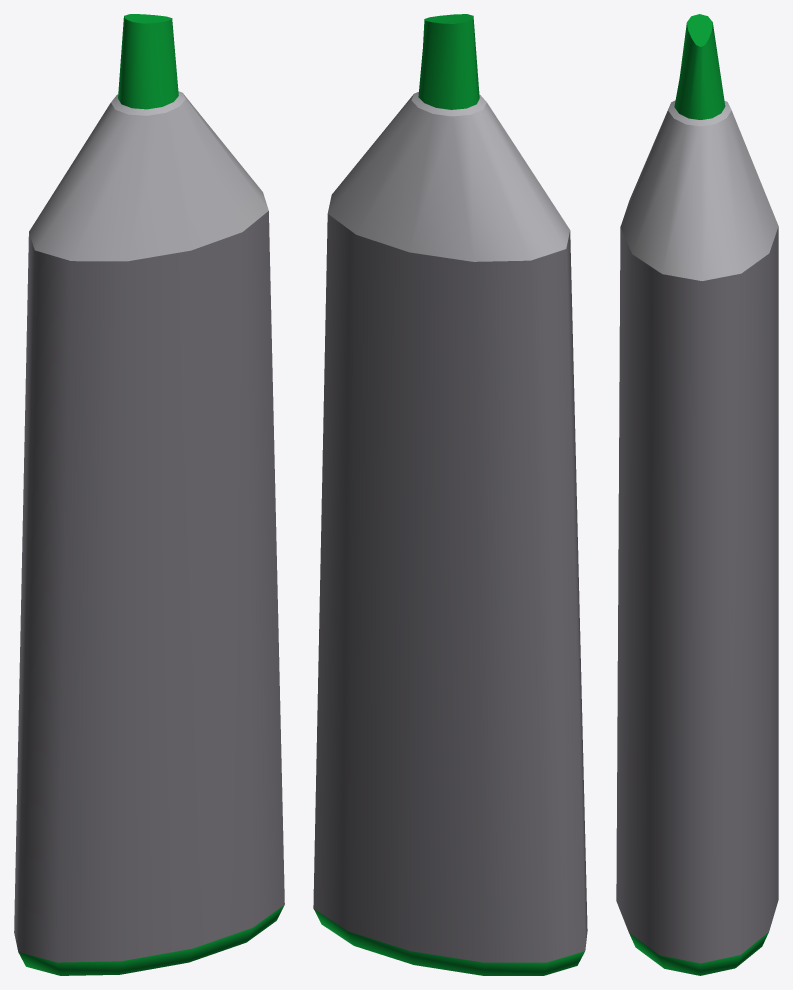
The model's file is Marker_01.fbx.
3 renders of one model, left to right at view 1: azimuth 30°, elevation 25°; view 2: azimuth 150°, elevation 25°; view 3: azimuth 270°, elevation 25°, orthographic. The views are drawn at different scales.
Parts seen in each view (by area): view 1: Marker_01; view 2: Marker_01; view 3: Marker_01.
Part boxes in pixels (x1,y1,x2,y2): Marker_01: (14, 14, 284, 975); Marker_01: (313, 14, 587, 975); Marker_01: (616, 14, 778, 975).
Bounding box in the file's own units: 7.21 × 3.94 × 24.08.
